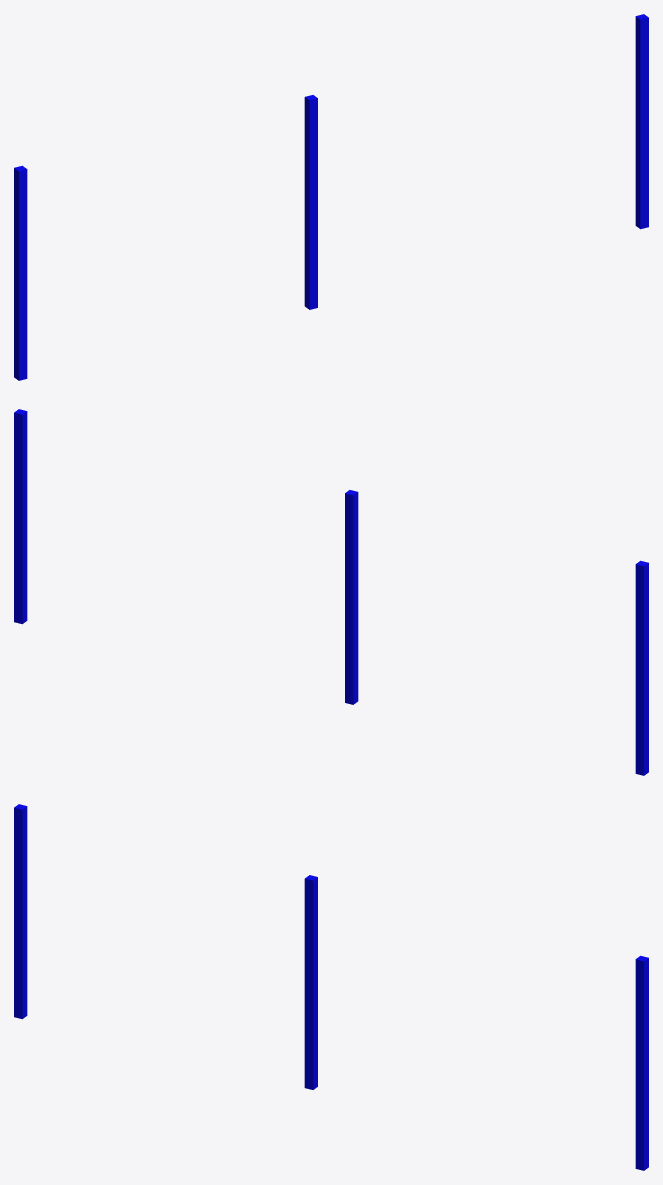
File: blue-column.dae
The picture shows the model from 3 angles, top to bottom: view 1: azimuth 30°, elevation 25°; view 2: azimuth 150°, elevation 25°; view 3: azimuth 330°, elevation 25°; orthographic projection.
Visible parts, largest first — view 1: node_001, node_002, node; view 2: node_001, node_002, node; view 3: node_001, node_002, node.
Part boxes in pixels (x1,y1,x2,y2): node_001: (14, 165, 27, 380); node_002: (635, 14, 648, 229); node: (304, 95, 317, 309); node_001: (635, 560, 648, 775); node_002: (14, 409, 27, 624); node: (345, 490, 358, 704); node_001: (14, 804, 27, 1019); node_002: (635, 955, 648, 1170); node: (304, 875, 317, 1089).
Bounding box in the file's own units: 8.87 × 0.12 × 2.82.
